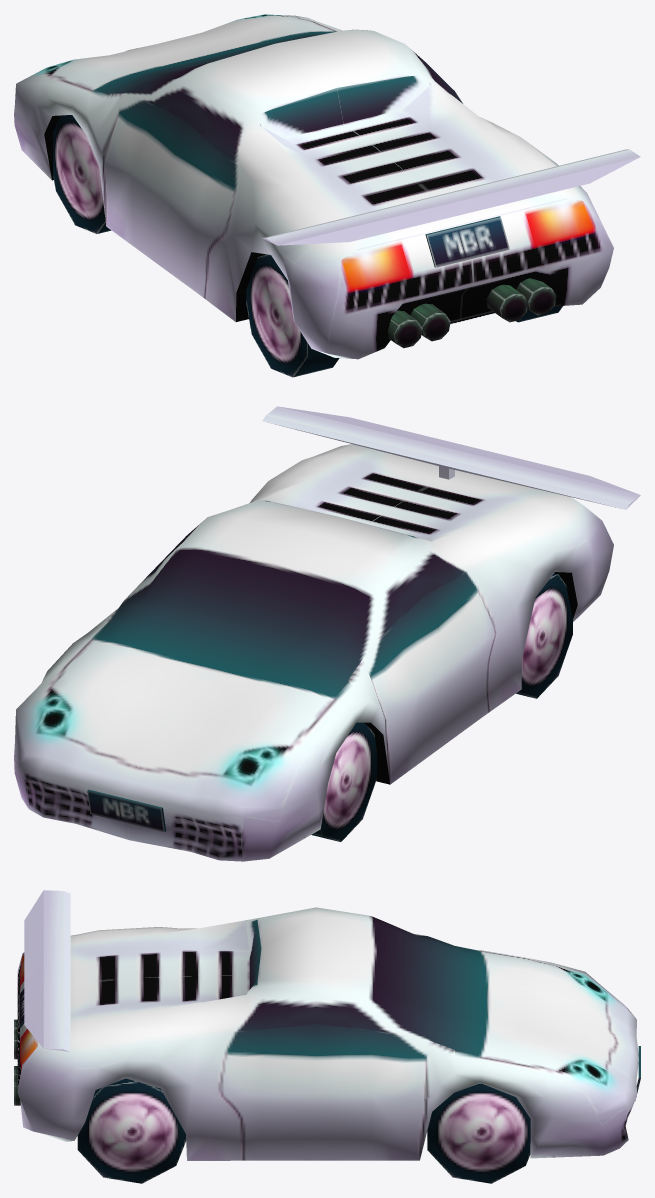
File: lambo.glb
3 views of the same model, one above another, from view 1: azimuth 30°, elevation 25°; view 2: azimuth 150°, elevation 25°; view 3: azimuth 270°, elevation 25° (orthographic). The views are drawn at different scales.
Visible parts, largest first — view 1: Cube; view 2: Cube; view 3: Cube.
Boxes of the visible parts, x1,y1,x2,y2 form: Cube: (14, 14, 640, 377); Cube: (14, 406, 640, 861); Cube: (14, 890, 640, 1183).
Bounding box in the file's own units: 2.99 × 1.62 × 5.
1 material, 1 textured.
